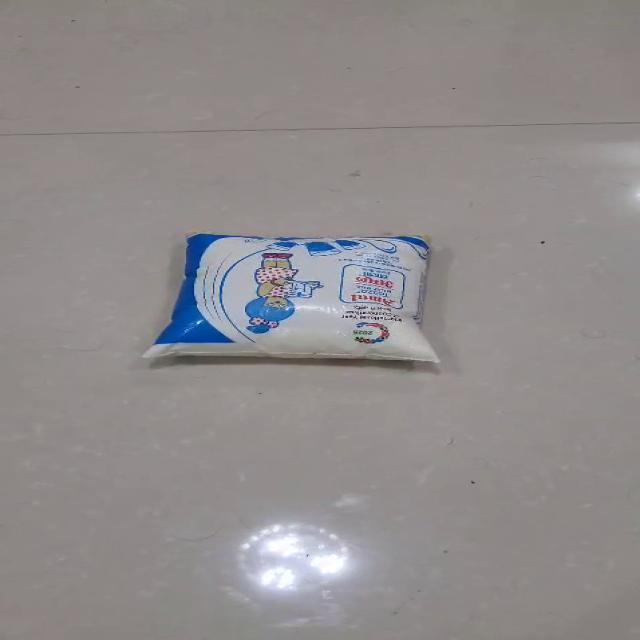plastic: (141, 230, 439, 363)
